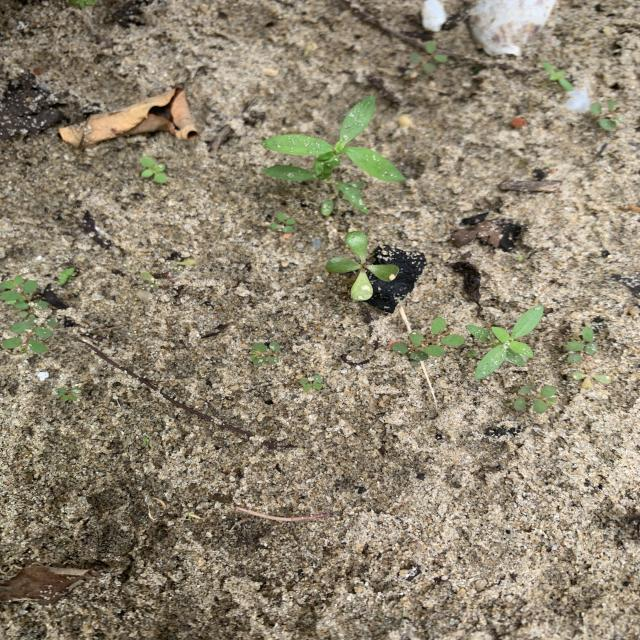weed: (261, 96, 405, 214), (469, 307, 543, 379), (327, 230, 399, 299), (0, 275, 59, 354), (392, 317, 463, 366), (509, 384, 555, 412), (408, 41, 447, 72), (567, 327, 595, 362), (588, 101, 620, 130), (542, 61, 572, 91), (140, 156, 167, 183), (571, 372, 611, 388), (252, 341, 279, 364), (270, 212, 295, 231), (299, 374, 323, 391), (56, 385, 82, 400), (58, 267, 75, 286), (321, 197, 335, 215)
